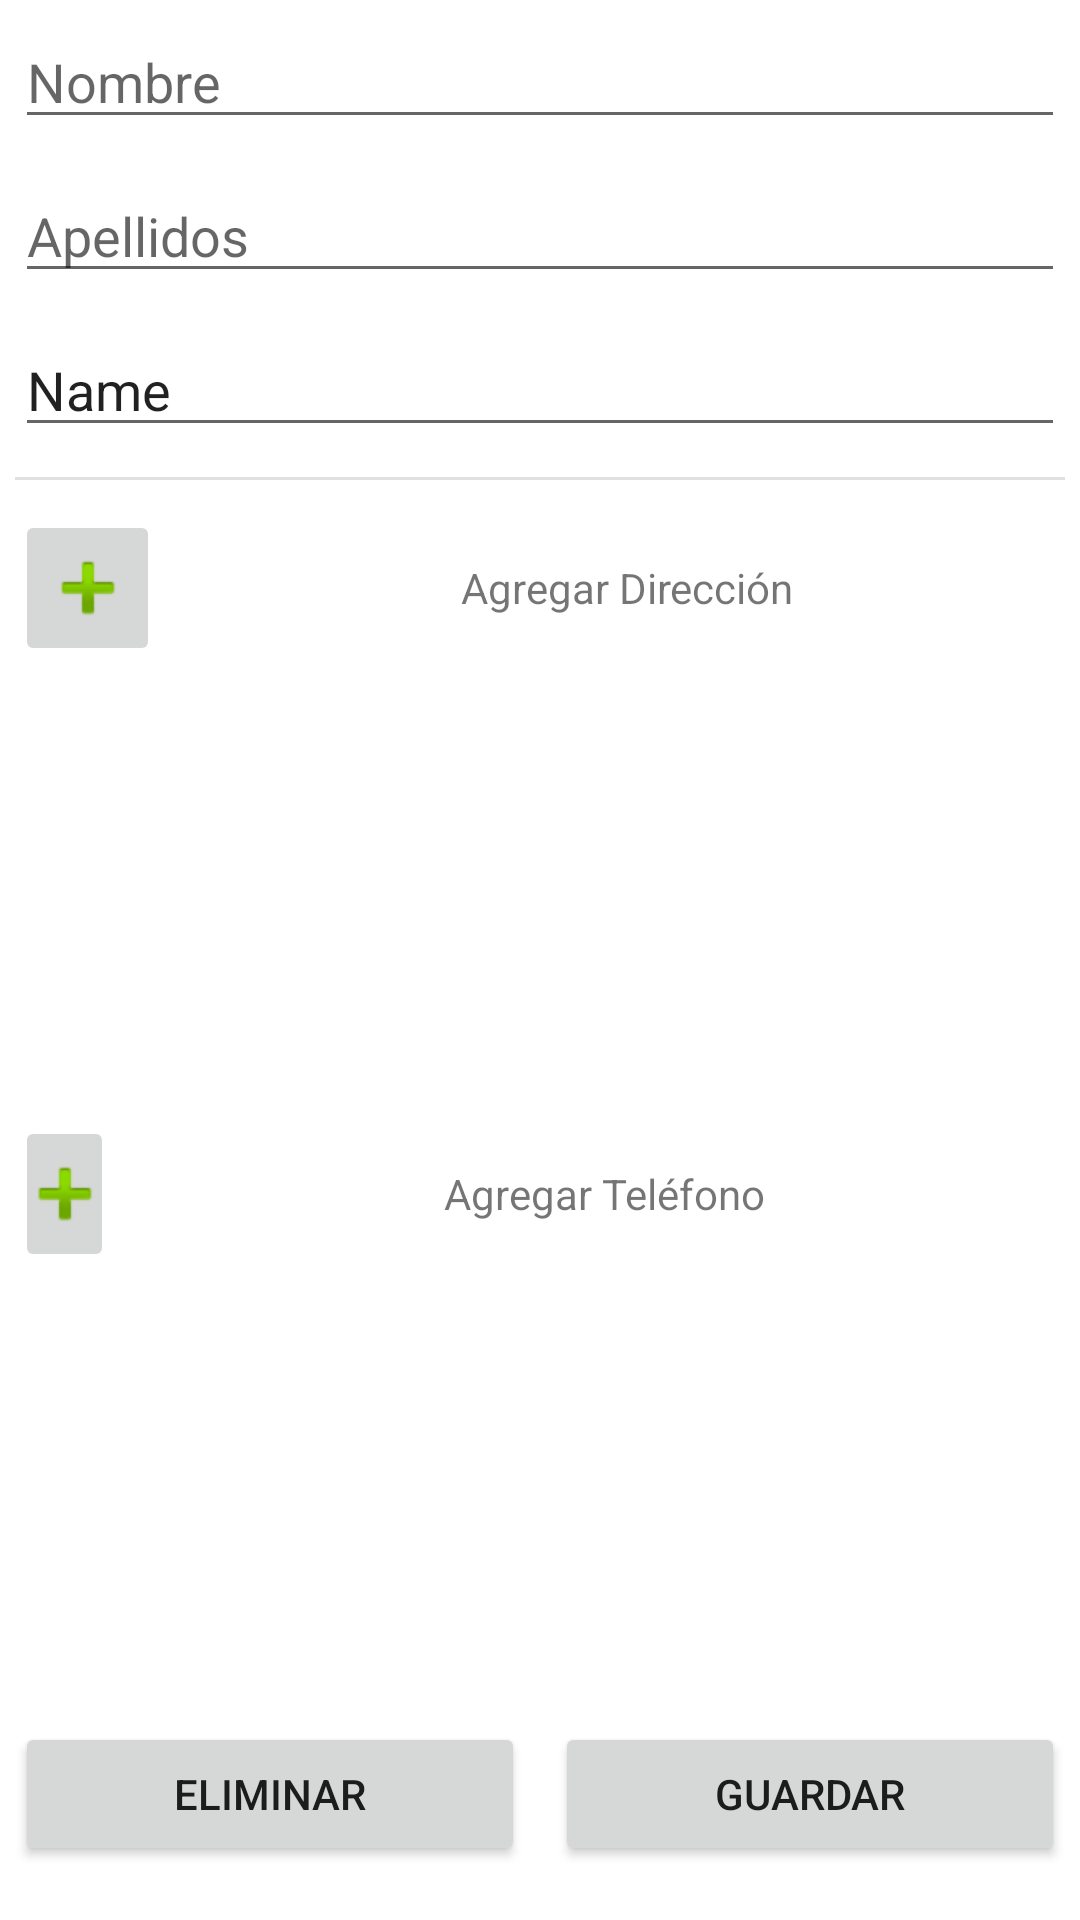

Icon bounding boxes for this 1080w x 1920h phone screenshot, format (x1, y1, x2, y2):
add: (27, 528, 148, 648), (27, 1134, 102, 1254)
